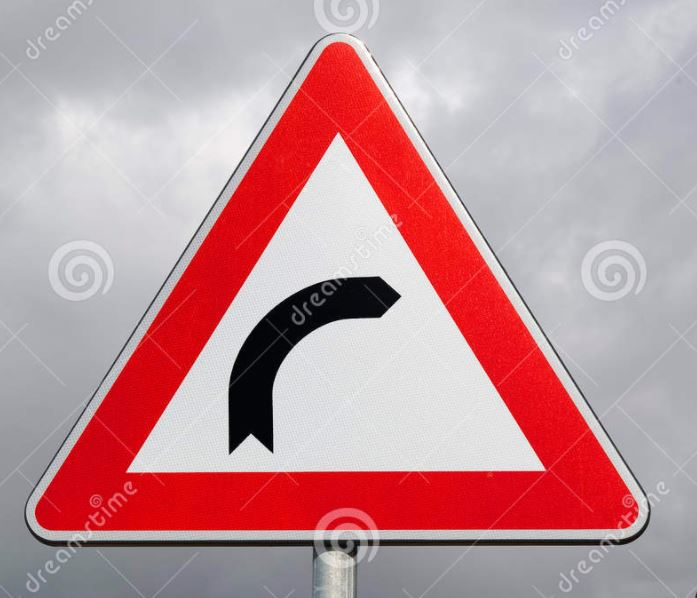Bend_to_right: (21, 31, 657, 554)
